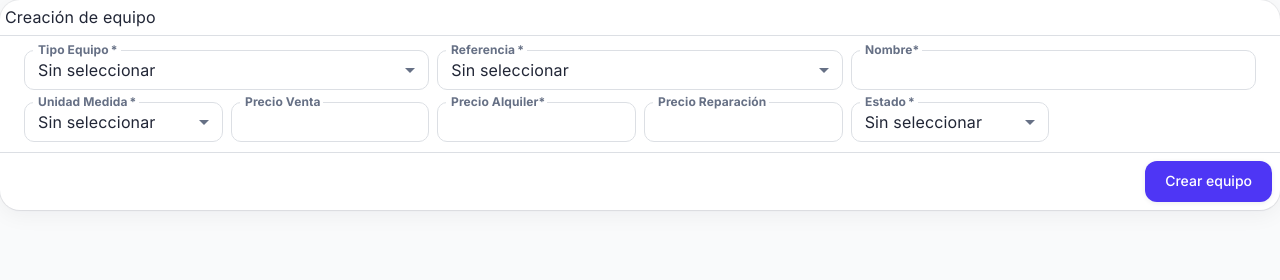
it: FormularioCrearEquipo › equipo ajeno: bodegas de reparación y pide propietario
Click the dropdown labelled "Sin seleccionar" next to "Tipo Equipo" at [97, 70], box [38,60,156,80]
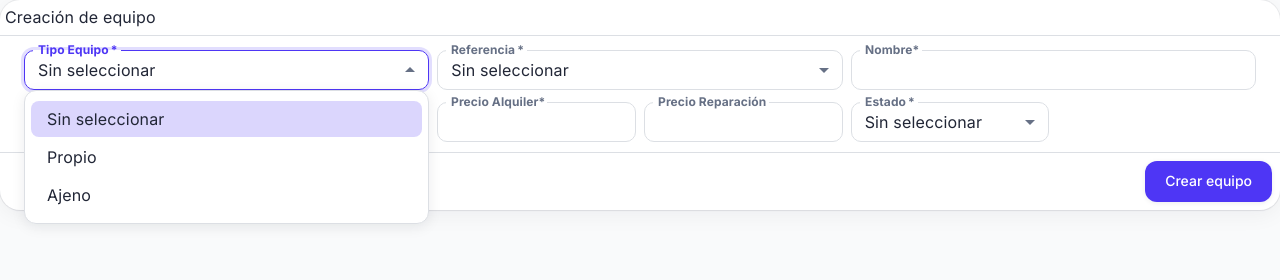
Click the option "Ajeno" at [69, 195], box [47,185,91,205]
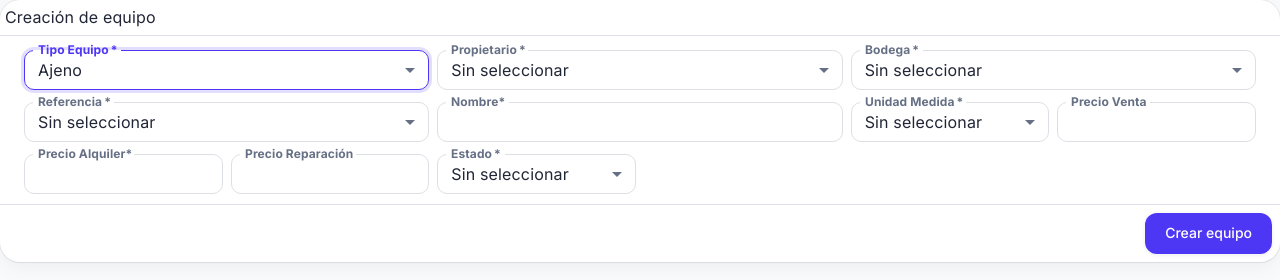
Expected: the list is gone
Click the dropdown labelled "Sin seleccionar" next to "Propietario" at [510, 70], box [451,60,569,80]
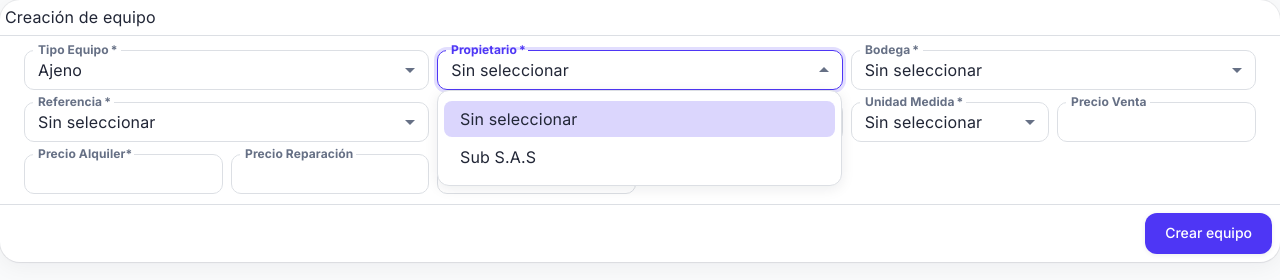
Click the option "Sub S.A.S" at [498, 157], box [460,147,536,167]
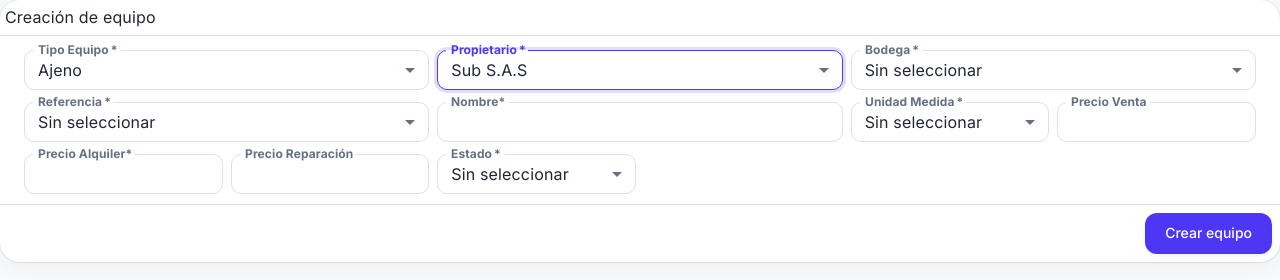
Expected: the list is gone
Click the dropdown labelled "Sin seleccionar" next to "Bodega" at [923, 70], box [865,60,982,80]
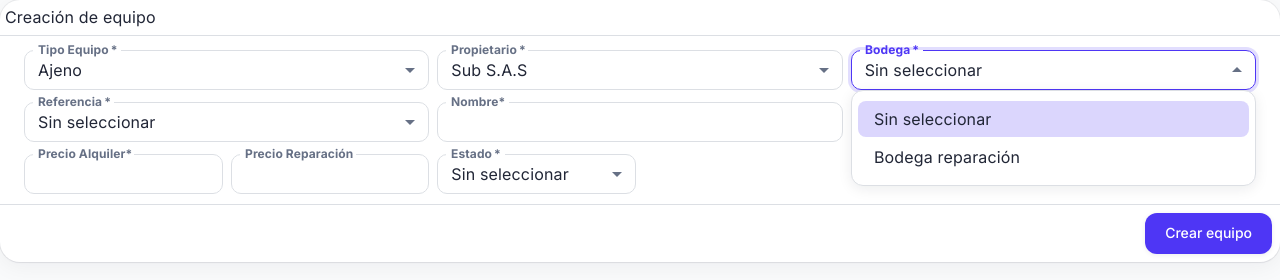
Click the option "Bodega reparación" at [947, 157], box [874,147,1020,167]
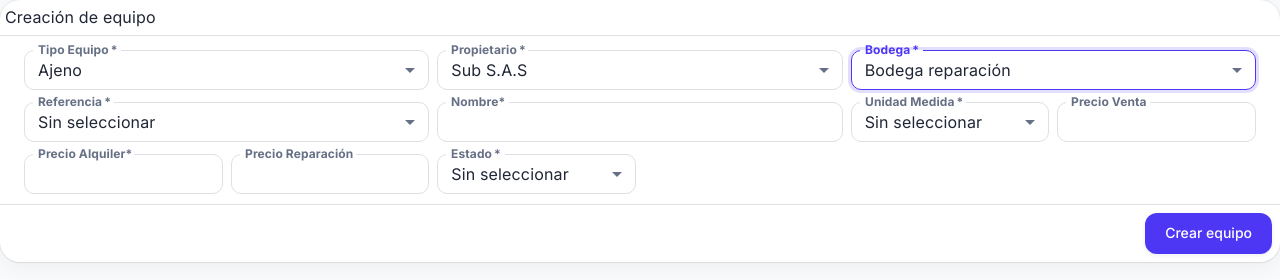
Expected: the list is gone
Expected: the dropdown labelled "Bodega reparación" is shown, [865,60,1011,80]
